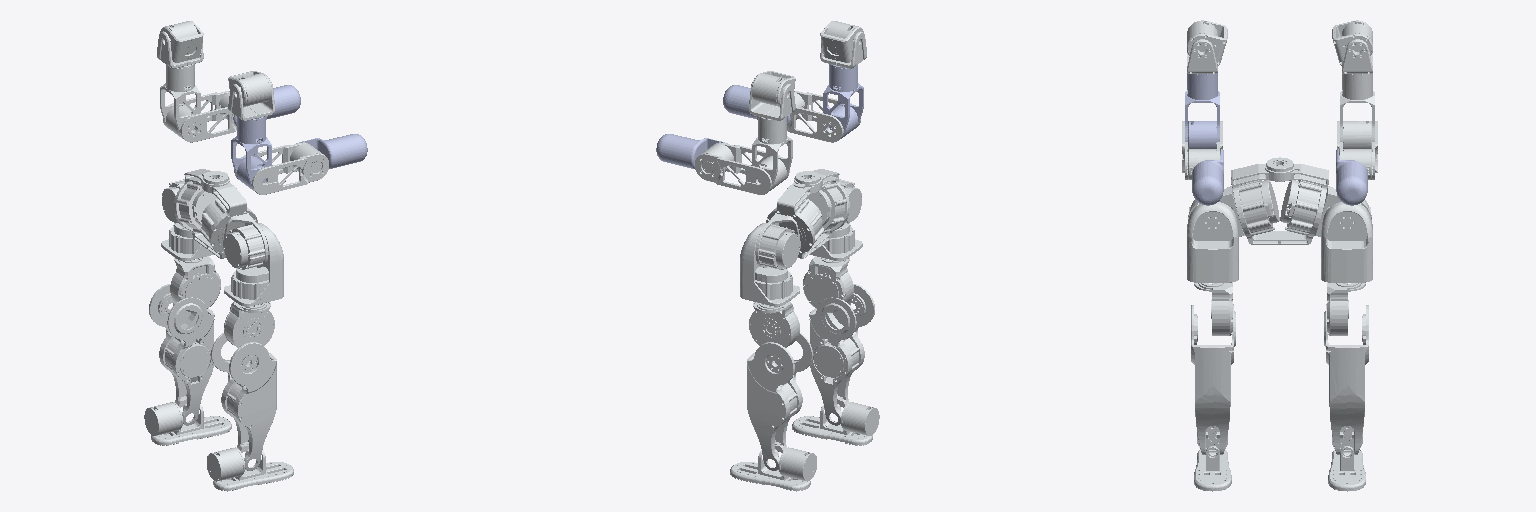
--- Facts derived from the render (not from the file) ---
3 views of the same robot in one strip: view 1: azimuth 30°, elevation 25°; view 2: azimuth 150°, elevation 25°; view 3: azimuth 270°, elevation 25° (orthographic).
Robot: y1_1 — 24 links, 23 joints (6 revolute, 17 fixed); root link waist_link; default pose: every joint at zero.
Visible links, largest first — view 1: left_knee_link, right_knee_link, waist_link, right_hip_roll_link, right_elbow_link, left_ankle_roll_link, right_ankle_roll_link, right_hip_pitch_link, left_hip_yaw_link, left_shoulder_yaw_link, right_shoulder_yaw_link, right_hip_yaw_link (+8 smaller); view 2: right_knee_link, left_knee_link, waist_link, left_hip_roll_link, left_elbow_link, right_ankle_roll_link, left_ankle_roll_link, left_hip_pitch_link, right_hip_yaw_link, right_shoulder_yaw_link, left_shoulder_yaw_link, left_hip_yaw_link (+8 smaller); view 3: waist_link, left_hip_roll_link, right_hip_roll_link, left_knee_link, right_knee_link, left_shoulder_yaw_link, right_shoulder_yaw_link, left_ankle_roll_link, right_ankle_roll_link, left_wrist_pitch_link, right_wrist_pitch_link, left_hip_yaw_link (+7 smaller).
Link boxes in pixels (x1,y1,x2,y2): left_knee_link: [149, 284, 214, 425]; right_knee_link: [211, 333, 276, 470]; waist_link: [174, 169, 257, 258]; right_hip_roll_link: [224, 223, 283, 306]; right_elbow_link: [234, 142, 328, 194]; left_ankle_roll_link: [144, 402, 231, 445]; right_ankle_roll_link: [207, 447, 293, 491]; right_hip_pitch_link: [223, 213, 268, 269]; left_hip_yaw_link: [170, 256, 220, 312]; left_shoulder_yaw_link: [160, 64, 200, 138]; right_shoulder_yaw_link: [231, 116, 272, 190]; right_hip_yaw_link: [224, 301, 274, 347]; right_knee_link: [809, 284, 874, 425]; left_knee_link: [747, 333, 812, 470]; waist_link: [766, 169, 849, 258]; left_hip_roll_link: [740, 223, 799, 306]; left_elbow_link: [695, 142, 789, 194]; right_ankle_roll_link: [792, 402, 879, 445]; left_ankle_roll_link: [730, 447, 816, 491]; left_hip_pitch_link: [755, 213, 800, 269]; right_hip_yaw_link: [803, 256, 853, 312]; right_shoulder_yaw_link: [823, 64, 863, 138]; left_shoulder_yaw_link: [751, 116, 792, 190]; left_hip_yaw_link: [749, 301, 799, 347]; waist_link: [1231, 157, 1328, 244]; left_hip_roll_link: [1321, 202, 1372, 282]; right_hip_roll_link: [1187, 202, 1238, 282]; left_knee_link: [1324, 304, 1368, 454]; right_knee_link: [1191, 304, 1235, 454]; left_shoulder_yaw_link: [1340, 73, 1374, 148]; right_shoulder_yaw_link: [1185, 73, 1219, 148]; left_ankle_roll_link: [1328, 426, 1365, 491]; right_ankle_roll_link: [1194, 426, 1231, 491]; left_wrist_pitch_link: [1336, 149, 1367, 205]; right_wrist_pitch_link: [1192, 149, 1223, 205]; left_hip_yaw_link: [1327, 282, 1365, 335].
Bounding box of the posed robot: 0.3356 × 0.3561 × 0.8821 m (x, y, z).
Meshes: 24 distinct files referenced, 21 mesh visuals loaded (21 binary STL); not drawn: 3 (reference not matched to a file when rendering).

robot.urdf — y1_1:
<?xml version="1.0" encoding="utf-8"?>
<!-- This URDF was automatically created by SolidWorks to URDF Exporter! Originally created by Stephen Brawner ([email redacted]) 
     Commit Version: 1.6.0-4-g7f85cfe  Build Version: 1.6.7995.38578
     For more information, please see http://wiki.ros.org/sw_urdf_exporter -->
<robot
  name="y1_1">
  <!-- [CAUTION] uncomment when convert to mujoco -->
  <!-- <link name="world"></link>
  <joint name="floating_base_joint" type="floating">
    <parent link="world"/>
    <child link="waist_link"/>
  </joint> -->
  <link
    name="waist_link">
    <inertial>
      <origin
        xyz="-3.1586E-06 1.8034E-05 0.064051"
        rpy="0 0 0" />
      <mass
        value="2.5841" />
      <inertia
        ixx="0.0048438"
        ixy="5.6006E-07"
        ixz="1.0459E-07"
        iyy="0.0040006"
        iyz="-2.8139E-06"
        izz="0.0035701" />
    </inertial>
    <visual>
      <origin
        xyz="0 0 0"
        rpy="0 0 0" />
      <geometry>
        <mesh
          filename="package://y1_1_description/meshes/waist_link.STL" />
      </geometry>
      <material
        name="">
        <color
          rgba="0.89804 0.91765 0.92941 1" />
      </material>
    </visual>
    <collision>
    <origin
        xyz="0.0 0.0 0.06"
        rpy="0 0 0" />
      <geometry>
         <sphere radius="0.05"/>
      </geometry>
      <!-- <origin
        xyz="0 0 0"
        rpy="0 0 0" />
      <geometry>
        <mesh
          filename="package://y1_1_description/meshes/waist_link.STL" />
      </geometry> -->
    </collision>
  </link>
  <link
    name="base_link">
    <inertial>
      <origin
        xyz="6.56487063583277E-05 -5.29883143021459E-05 0.175418408757432"
        rpy="0 0 0" />
      <mass
        value="3.23282079938545" />
      <inertia
        ixx="0.0148958930151508"
        ixy="-3.71742538422919E-08"
        ixz="-1.572086772411E-05"
        iyy="0.00995082654269899"
        iyz="-3.22003386785444E-07"
        izz="0.00758513841063971" />
    </inertial>
    <visual>
      <origin
        xyz="0 0 0"
        rpy="0 0 0" />
      <geometry>
        <mesh
          filename="package://y1_1_description/meshes/base_link.STL" />
      </geometry>
      <material
        name="">
        <color
          rgba="0.796078431372549 0.823529411764706 0.937254901960784 1" />
      </material>
    </visual>
    <collision>
      <origin
        xyz="0 0 0"
        rpy="0 0 0" />
      <geometry>
        <mesh
          filename="package://y1_1_description/meshes/base_link.STL" />
      </geometry>
    </collision>
  </link>
  <joint
    name="waist_yaw_joint"
    type="fixed">
    <origin
      xyz="0 0 0.1375"
      rpy="0 0 0" />
    <parent
      link="waist_link" />
    <child
      link="base_link" />
    <axis
      xyz="0 0 1" />
    <limit
      lower="-2.531"
      upper="2.531"
      effort="36"
      velocity="10" />
    <dynamics
      damping="0"
      friction="0" />
  </joint>
  <link
    name="left_shoulder_pitch_link">
    <inertial>
      <origin
        xyz="0.0014501 0.037494 -3.3436E-05"
        rpy="0 0 0" />
      <mass
        value="0.42846" />
      <inertia
        ixx="0.00020767"
        ixy="8.834E-07"
        ixz="8.3313E-08"
        iyy="0.00015805"
        iyz="6.5571E-07"
        izz="0.00016957" />
    </inertial>
    <visual>
      <origin
        xyz="0 0 0"
        rpy="0 0 0" />
      <geometry>
        <mesh
          filename="package://y1_1_description/meshes/left_shoulder_pitch_link.STL" />
      </geometry>
      <material
        name="">
        <color
          rgba="0.89804 0.91765 0.92941 1" />
      </material>
    </visual>
    <collision>
      <origin
        xyz="0 0 0"
        rpy="0 0 0" />
      <geometry>
        <mesh
          filename="package://y1_1_description/meshes/left_shoulder_pitch_link.STL" />
      </geometry>
    </collision>
  </link>
  <joint
    name="left_shoulder_pitch_joint"
    type="fixed">
    <origin
      xyz="0 0.099475 0.23878"
      rpy="0.2618 0 0" />
    <parent
      link="base_link" />
    <child
      link="left_shoulder_pitch_link" />
    <axis
      xyz="0 1 0" />
    <limit
      lower="-2.793"
      upper="2.967"
      effort="14"
      velocity="27" />
    <dynamics
      damping="0"
      friction="0" />
  </joint>
  <link
    name="left_shoulder_roll_link">
    <inertial>
      <origin
        xyz="0.00147828435491028 3.1433042280149E-08 -0.0280280483593641"
        rpy="0 0 0" />
      <mass
        value="0.144870902366699" />
      <inertia
        ixx="9.4453302561668E-05"
        ixy="1.55808711007369E-11"
        ixz="1.25865692791907E-06"
        iyy="7.28853579384453E-05"
        iyz="6.59859100865354E-11"
        izz="4.77731803342356E-05" />
    </inertial>
    <visual>
      <origin
        xyz="0 0 0"
        rpy="0 0 0" />
      <geometry>
        <mesh
          filename="package://y1_1_description/meshes/left_shoulder_roll_link.STL" />
      </geometry>
      <material
        name="">
        <color
          rgba="0.898039215686275 0.917647058823529 0.929411764705882 1" />
      </material>
    </visual>
    <collision>
      <origin
        xyz="0 0 0"
        rpy="0 0 0" />
      <geometry>
        <mesh
          filename="package://y1_1_description/meshes/left_shoulder_roll_link.STL" />
      </geometry>
    </collision>
  </link>
  <joint
    name="left_shoulder_roll_joint"
    type="fixed">
    <origin
      xyz="0 0.0425 0"
      rpy="-0.2618 0 0" />
    <parent
      link="left_shoulder_pitch_link" />
    <child
      link="left_shoulder_roll_link" />
    <axis
      xyz="1 0 0" />
    <limit
      lower="-0.175"
      upper="2.269"
      effort="14"
      velocity="27" />
    <dynamics
      damping="0"
      friction="0" />
  </joint>
  <link
    name="left_shoulder_yaw_link">
    <inertial>
      <origin
        xyz="0.00448125989545401 -0.000611852161467807 -0.0795898043184994"
        rpy="0 0 0" />
      <mass
        value="0.782200484886942" />
      <inertia
        ixx="0.000510469110611853"
        ixy="-2.52457714910517E-06"
        ixz="1.95530262326416E-05"
        iyy="0.000478219785836431"
        iyz="1.47545704469902E-05"
        izz="0.000394120633611971" />
    </inertial>
    <visual>
      <origin
        xyz="0 0 0"
        rpy="0 0 0" />
      <geometry>
        <mesh
          filename="package://y1_1_description/meshes/left_shoulder_yaw_link.STL" />
      </geometry>
      <material
        name="">
        <color
          rgba="0.898039215686275 0.917647058823529 0.929411764705882 1" />
      </material>
    </visual>
    <collision>
      <origin
        xyz="0 0 0"
        rpy="0 0 0" />
      <geometry>
        <mesh
          filename="package://y1_1_description/meshes/left_shoulder_yaw_link.STL" />
      </geometry>
    </collision>
  </link>
  <joint
    name="left_shoulder_yaw_joint"
    type="fixed">
    <origin
      xyz="0 0 -0.0535"
      rpy="0 0 0" />
    <parent
      link="left_shoulder_roll_link" />
    <child
      link="left_shoulder_yaw_link" />
    <axis
      xyz="0 0 1" />
    <limit
      lower="-2.618"
      upper="2.618"
      effort="14"
      velocity="27" />
    <dynamics
      damping="0"
      friction="0" />
  </joint>
  <link
    name="left_elbow_link">
    <inertial>
      <origin
        xyz="0.0931426735984881 -0.0019012892923507 -5.53297350775611E-06"
        rpy="0 0 0" />
      <mass
        value="0.52894696832523" />
      <inertia
        ixx="0.000187156048200952"
        ixy="2.57323704760948E-06"
        ixz="-1.51658245144538E-06"
        iyy="0.000736108020687782"
        iyz="2.90336436457666E-09"
        izz="0.000659746458568266" />
    </inertial>
    <visual>
      <origin
        xyz="0 0 0"
        rpy="0 0 0" />
      <geometry>
        <mesh
          filename="package://y1_1_description/meshes/left_elbow_link.STL" />
      </geometry>
      <material
        name="">
        <color
          rgba="0.898039215686275 0.917647058823529 0.929411764705882 1" />
      </material>
    </visual>
    <collision>
      <origin
        xyz="0 0 0"
        rpy="0 0 0" />
      <geometry>
        <mesh
          filename="package://y1_1_description/meshes/left_elbow_link.STL" />
      </geometry>
    </collision>
  </link>
  <joint
    name="left_elbow_joint"
    type="fixed">
    <origin
      xyz="0.01 0 -0.132"
      rpy="0 0 0" />
    <parent
      link="left_shoulder_yaw_link" />
    <child
      link="left_elbow_link" />
    <axis
      xyz="0 1 0" />
    <limit
      lower="-1.047"
      upper="2.531"
      effort="14"
      velocity="27" />
    <dynamics
      damping="0"
      friction="0" />
  </joint>
  <link
    name="left_wrist_pitch_link">
    <inertial>
      <origin
        xyz="0.0740963738948672 -0.0126020134629869 -1.05580078013645E-09"
        rpy="0 0 0" />
      <mass
        value="0.286000043256093" />
      <inertia
        ixx="0.000124675696022102"
        ixy="-5.2275226947267E-05"
        ixz="3.09861315773967E-13"
        iyy="0.000382541212740339"
        iyz="-1.85991790522179E-11"
        izz="0.000393370729585367" />
    </inertial>
    <visual>
      <origin
        xyz="0 0 0"
        rpy="0 0 0" />
      <geometry>
        <mesh
          filename="package://y1_1_description/meshes/left_wrist_pitch_link.STL" />
      </geometry>
      <material
        name="">
        <color
          rgba="0.796078431372549 0.823529411764706 0.937254901960784 1" />
      </material>
    </visual>
    <collision>
      <origin
        xyz="0 0 0"
        rpy="0 0 0" />
      <geometry>
        <mesh
          filename="package://y1_1_description/meshes/left_wrist_pitch_link.STL" />
      </geometry>
    </collision>
  </link>
  <joint
    name="left_wrist_pitch_joint"
    type="fixed">
    <origin
      xyz="0.12 0 0"
      rpy="0 0 0" />
    <parent
      link="left_elbow_link" />
    <child
      link="left_wrist_pitch_link" />
    <axis
      xyz="0 1 0" />
    <limit
      lower="-1.745"
      upper="1.745"
      effort="14"
      velocity="27" />
    <dynamics
      damping="0"
      friction="0" />
  </joint>
  <link
    name="right_shoulder_pitch_link">
    <inertial>
      <origin
        xyz="0.00145013977142911 -0.0374931990457945 -3.87483040580339E-05"
        rpy="0 0 0" />
      <mass
        value="0.428463740665447" />
      <inertia
        ixx="0.000207666476848762"
        ixy="-8.83223763137363E-07"
        ixz="8.20975772793153E-08"
        iyy="0.000157891450031877"
        iyz="-2.87351585701473E-07"
        izz="0.000169727347595642" />
    </inertial>
    <visual>
      <origin
        xyz="0 0 0"
        rpy="0 0 0" />
      <geometry>
        <mesh
          filename="package://y1_1_description/meshes/right_shoulder_pitch_link.STL" />
      </geometry>
      <material
        name="">
        <color
          rgba="0.898039215686275 0.917647058823529 0.929411764705882 1" />
      </material>
    </visual>
    <collision>
      <origin
        xyz="0 0 0"
        rpy="0 0 0" />
      <geometry>
        <mesh
          filename="package://y1_1_description/meshes/right_shoulder_pitch_link.STL" />
      </geometry>
    </collision>
  </link>
  <joint
    name="right_shoulder_pitch_joint"
    type="fixed">
    <origin
      xyz="0 -0.099475 0.23878"
      rpy="-0.2618 0 0" />
    <parent
      link="base_link" />
    <child
      link="right_shoulder_pitch_link" />
    <axis
      xyz="0 1 0" />
    <limit
      lower="-2.793"
      upper="2.967"
      effort="14"
      velocity="27" />
    <dynamics
      damping="0"
      friction="0" />
  </joint>
  <link
    name="right_shoulder_roll_link">
    <inertial>
      <origin
        xyz="0.00147828435491732 3.14330422523934E-08 -0.0280280483593639"
        rpy="0 0 0" />
      <mass
        value="0.144870902366699" />
      <inertia
        ixx="9.44533025616681E-05"
        ixy="1.55808710271341E-11"
        ixz="1.25865692791968E-06"
        iyy="7.28853579384454E-05"
        iyz="6.59859099179777E-11"
        izz="4.77731803342357E-05" />
    </inertial>
    <visual>
      <origin
        xyz="0 0 0"
        rpy="0 0 0" />
      <geometry>
        <mesh
          filename="package://y1_1_description/meshes/right_shoulder_roll_link.STL" />
      </geometry>
      <material
        name="">
        <color
          rgba="0.898039215686275 0.917647058823529 0.929411764705882 1" />
      </material>
    </visual>
    <collision>
      <origin
        xyz="0 0 0"
        rpy="0 0 0" />
      <geometry>
        <mesh
          filename="package://y1_1_description/meshes/right_shoulder_roll_link.STL" />
      </geometry>
    </collision>
  </link>
  <joint
    name="right_shoulder_roll_joint"
    type="fixed">
    <origin
      xyz="0 -0.0425 0"
      rpy="0.2618 0 0" />
    <parent
      link="right_shoulder_pitch_link" />
    <child
      link="right_shoulder_roll_link" />
    <axis
      xyz="1 0 0" />
    <limit
      lower="-2.269"
      upper="0.175"
      effort="14"
      velocity="27" />
    <dynamics
      damping="0"
      friction="0" />
  </joint>
  <link
    name="right_shoulder_yaw_link">
    <inertial>
      <origin
        xyz="0.00448126918412133 0.00061332156626856 -0.0795882496136856"
        rpy="0 0 0" />
      <mass
        value="0.782202485133934" />
      <inertia
        ixx="0.000510470479435294"
        ixy="2.47850987454687E-06"
        ixz="1.95987762118723E-05"
        iyy="0.000478220740509219"
        iyz="-1.47536548845486E-05"
        izz="0.000394120932458268" />
    </inertial>
    <visual>
      <origin
        xyz="0 0 0"
        rpy="0 0 0" />
      <geometry>
        <mesh
          filename="package://y1_1_description/meshes/right_shoulder_yaw_link.STL" />
      </geometry>
      <material
        name="">
        <color
          rgba="0.792156862745098 0.819607843137255 0.933333333333333 1" />
      </material>
    </visual>
    <collision>
      <origin
        xyz="0 0 0"
        rpy="0 0 0" />
      <geometry>
        <mesh
          filename="package://y1_1_description/meshes/right_shoulder_yaw_link.STL" />
      </geometry>
    </collision>
  </link>
  <joint
    name="right_shoulder_yaw_joint"
    type="fixed">
    <origin
      xyz="0 0 -0.0535"
      rpy="0 0 0" />
    <parent
      link="right_shoulder_roll_link" />
    <child
      link="right_shoulder_yaw_link" />
    <axis
      xyz="0 0 1" />
    <limit
      lower="-2.618"
      upper="2.618"
      effort="14"
      velocity="27" />
    <dynamics
      damping="0"
      friction="0" />
  </joint>
  <link
    name="right_elbow_link">
    <inertial>
      <origin
        xyz="0.093144913082755 0.00190127899509376 -5.54042496230672E-06"
        rpy="0 0 0" />
      <mass
        value="0.528946651454419" />
      <inertia
        ixx="0.000187155902173245"
        ixy="-2.57310617005945E-06"
        ixz="-1.56252093026095E-06"
        iyy="0.000736107334396418"
        iyz="-2.89803908863842E-09"
        izz="0.000659745916340358" />
    </inertial>
    <visual>
      <origin
        xyz="0 0 0"
        rpy="0 0 0" />
      <geometry>
        <mesh
          filename="package://y1_1_description/meshes/right_elbow_link.STL" />
      </geometry>
      <material
        name="">
        <color
          rgba="0.898039215686275 0.917647058823529 0.929411764705882 1" />
      </material>
    </visual>
    <collision>
      <origin
        xyz="0 0 0"
        rpy="0 0 0" />
      <geometry>
        <mesh
          filename="package://y1_1_description/meshes/right_elbow_link.STL" />
      </geometry>
    </collision>
  </link>
  <joint
    name="right_elbow_joint"
    type="fixed">
    <origin
      xyz="0.01 0 -0.132"
      rpy="0 0 0" />
    <parent
      link="right_shoulder_yaw_link" />
    <child
      link="right_elbow_link" />
    <axis
      xyz="0 1 0" />
    <limit
      lower="-1.047"
      upper="2.531"
      effort="14"
      velocity="27" />
    <dynamics
      damping="0"
      friction="0" />
  </joint>
  <link
    name="right_wrist_pitch_link">
    <inertial>
      <origin
        xyz="0.0740963737913498 0.0126020135473506 1.05580435366681E-09"
        rpy="0 0 0" />
      <mass
        value="0.286000043890953" />
      <inertia
        ixx="0.000124675696445967"
        ixy="5.22752277836084E-05"
        ixz="-3.09853995384512E-13"
        iyy="0.000382541214043488"
        iyz="-1.85991927096422E-11"
        izz="0.000393370731162602" />
    </inertial>
    <visual>
      <origin
        xyz="0 0 0"
        rpy="0 0 0" />
      <geometry>
        <mesh
          filename="package://y1_1_description/meshes/right_wrist_pitch_link.STL" />
      </geometry>
      <material
        name="">
        <color
          rgba="0.796078431372549 0.823529411764706 0.937254901960784 1" />
      </material>
    </visual>
    <collision>
      <origin
        xyz="0 0 0"
        rpy="0 0 0" />
      <geometry>
        <mesh
          filename="package://y1_1_description/meshes/right_wrist_pitch_link.STL" />
      </geometry>
    </collision>
  </link>
  <joint
    name="right_wrist_pitch_joint"
    type="fixed">
    <origin
      xyz="0.12 0 0"
      rpy="0 0 0" />
    <parent
      link="right_elbow_link" />
    <child
      link="right_wrist_pitch_link" />
    <axis
      xyz="0 1 0" />
    <limit
      lower="-1.745"
      upper="1.745"
      effort="14"
      velocity="27" />
    <dynamics
      damping="0"
      friction="0" />
  </joint>
  <link
    name="left_hip_pitch_link">
    <inertial>
      <origin
        xyz="-0.0019632 0.045161 -5.0674E-05"
        rpy="0 0 0" />
      <mass
        value="0.80356" />
      <inertia
        ixx="0.00076974"
        ixy="-3.6659E-05"
        ixz="-5.4682E-07"
        iyy="0.00051104"
        iyz="-1.1627E-06"
        izz="0.00053614" />
    </inertial>
    <visual>
      <origin
        xyz="0 0 0"
        rpy="0 0 0" />
      <geometry>
        <mesh
          filename="package://y1_1_description/meshes/left_hip_pitch_link.STL" />
      </geometry>
      <material
        name="">
        <color
          rgba="0.89804 0.91765 0.92941 1" />
      </material>
    </visual>
    <!-- <collision>
      <origin
        xyz="0 0 0"
        rpy="0 0 0" />
      <geometry>
        <mesh
          filename="package://y1_1_description/meshes/left_hip_pitch_link.STL" />
      </geometry>
    </collision> -->
  </link>
  <joint
    name="left_hip_pitch_joint"
    type="revolute">
    <origin
      xyz="0 0.072659 0.052412"
      rpy="-0.2618 0 0" />
    <parent
      link="waist_link" />
    <child
      link="left_hip_pitch_link" />
    <axis
      xyz="0 1 0" />
    <limit
      lower="-2.88"
      upper="2.531"
      effort="60"
      velocity="18" />
  </joint>
  <link
    name="left_hip_roll_link">
    <inertial>
      <origin
        xyz="0.00899188629843321 2.88126070502326E-08 -0.0619119664701918"
        rpy="0 0 0" />
      <mass
        value="1.14369294200887" />
      <inertia
        ixx="0.00189247369658316"
        ixy="2.02387217321815E-08"
        ixz="-6.69014743554038E-05"
        iyy="0.00168055682608297"
        iyz="1.12885427720383E-08"
        izz="0.00124417067080654" />
    </inertial>
    <visual>
      <origin
        xyz="0 0 0"
        rpy="0 0 0" />
      <geometry>
        <mesh
          filename="package://y1_1_description/meshes/left_hip_roll_link.STL" />
      </geometry>
      <material
        name="">
        <color
          rgba="0.898039215686275 0.917647058823529 0.929411764705882 1" />
      </material>
    </visual>
    <collision>
      <origin
        xyz="0 0 0"
        rpy="0 0 0" />
      <geometry>
        <mesh
          filename="package://y1_1_description/meshes/left_hip_roll_link.STL" />
      </geometry>
    </collision>
  </link>
  <joint
    name="left_hip_roll_joint"
    type="revolute">
    <origin
      xyz="0.015 0.0511 0"
      rpy="0.2618 0 0" />
    <parent
      link="left_hip_pitch_link" />
    <child
      link="left_hip_roll_link" />
    <axis
      xyz="1 0 0" />
    <limit
      lower="-0.262"
      upper="2.793"
      effort="36"
      velocity="10" />
    <dynamics
      damping="0"
      friction="0" />
  </joint>
  <link
    name="left_hip_yaw_link">
    <inertial>
      <origin
        xyz="-0.0171493951600475 -0.000592733790209271 -0.0958073202510228"
        rpy="0 0 0" />
      <mass
        value="1.68196474784983" />
      <inertia
        ixx="0.00269224103241642"
        ixy="-2.75040847797259E-06"
        ixz="-0.000206603646125489"
        iyy="0.00371920304490375"
        iyz="0.000100477020490718"
        izz="0.00169582318071477" />
    </inertial>
    <visual>
      <origin
        xyz="0 0 0"
        rpy="0 0 0" />
      <geometry>
        <mesh
          filename="package://y1_1_description/meshes/left_hip_yaw_link.STL" />
      </geometry>
      <material
        name="">
        <color
          rgba="0.898039215686275 0.917647058823529 0.929411764705882 1" />
      </material>
    </visual>
    <collision>
      <origin
        xyz="0 0 0"
        rpy="0 0 0" />
      <geometry>
        <mesh
          filename="package://y1_1_description/meshes/left_hip_yaw_link.STL" />
      </geometry>
    </collision>
  </link>
  <joint
    name="left_hip_yaw_joint"
    type="revolute">
    <origin
      xyz="0 0 -0.105"
      rpy="0 0 0" />
    <parent
      link="left_hip_roll_link" />
    <child
      link="left_hip_yaw_link" />
    <axis
      xyz="0 0 1" />
    <limit
      lower="-2.793"
      upper="2.793"
      effort="36"
      velocity="10" />
    <dynamics
      damping="0"
      friction="0" />
  </joint>
  <link
    name="left_knee_link">
    <inertial>
      <origin
        xyz="0.0216143017982802 -0.000846542482496909 -0.0880746684028961"
        rpy="0 0 0" />
      <mass
        value="1.28623787789441" />
      <inertia
        ixx="0.00368386502217027"
        ixy="9.82739714080785E-07"
        ixz="0.000146821315179311"
        iyy="0.00432631464408649"
        iyz="-9.02460574225806E-06"
        izz="0.000969540368517392" />
    </inertial>
    <visual>
      <origin
        xyz="0 0 0"
        rpy="0 0 0" />
      <geometry>
        <mesh
          filename="package://y1_1_description/meshes/left_knee_link.STL" />
      </geometry>
      <material
        name="">
        <color
          rgba="0.898039215686275 0.917647058823529 0.929411764705882 1" />
      </material>
    </visual>
    <collision>
      <origin
        xyz="0 0 0"
        rpy="0 0 0" />
      <geometry>
        <mesh
          filename="package://y1_1_description/meshes/left_knee_link.STL" />
      </geometry>
    </collision>
  </link>
  <joint
    name="left_knee_joint"
    type="revolute">
    <origin
      xyz="-0.03 0 -0.1295"
      rpy="0 0 0" />
    <parent
      link="left_hip_yaw_link" />
    <child
      link="left_knee_link" />
    <axis
      xyz="0 1 0" />
    <limit
      lower="-0.087"
      upper="2.793"
      effort="60"
      velocity="18" />
    <dynamics
      damping="0"
      friction="0" />
  </joint>
  <link
    name="left_ankle_pitch_link">
    <inertial>
      <origin
        xyz="0.00093706 -3.9074E-06 -0.00033742"
        rpy="0 0 0" />
      <mass
        value="0.061258" />
      <inertia
        ixx="7.4924E-06"
        ixy="3.5333E-12"
        ixz="-3.4124E-07"
        iyy="1.6962E-05"
        iyz="3.2927E-12"
        izz="1.8556E-05" />
    </inertial>
    <visual>
      <origin
        xyz="0 0 0"
        rpy="0 0 0" />
      <geometry>
        <mesh
          filename="package://y1_1_description/meshes/left_ankle_pitch_link.STL" />
      </geometry>
      <material
        name="">
        <color
          rgba="0.89804 0.91765 0.92941 1" />
      </material>
    </visual>
    <!-- <collision>
      <origin
        xyz="0 0 0"
        rpy="0 0 0" />
      <geometry>
        <mesh
          filename="package://y1_1_description/meshes/left_ankle_pitch_link.STL" />
      </geometry>
    </collision> -->
  </link>
  <joint
    name="left_ankle_pitch_joint"
    type="revolute">
    <origin
      xyz="0.015 0 -0.225"
      rpy="0 0 0" />
    <parent
      link="left_knee_link" />
    <child
      link="left_ankle_pitch_link" />
    <axis
      xyz="0 1 0" />
    <limit
      lower="-0.873"
      upper="0.346"
      effort="36"
      velocity="10" />
    <dynamics
      damping="0"
      friction="0" />
  </joint>
  <link
    name="left_ankle_roll_link">
    <inertial>
      <origin
        xyz="-0.0221209771035069 -5.42568729218484E-06 -0.0143158952651421"
        rpy="0 0 0" />
      <mass
        value="0.534158856132278" />
      <inertia
        ixx="0.000201892396619271"
        ixy="-3.74193586131749E-09"
        ixz="6.26133146926386E-06"
        iyy="0.000520987247862242"
        iyz="-2.31036227071568E-08"
        izz="0.000562696177317639" />
    </inertial>
    <visual>
      <origin
        xyz="0 0 0"
        rpy="0 0 0" />
      <geometry>
        <mesh
          filename="package://y1_1_description/meshes/left_ankle_roll_visual_link.STL" />
      </geometry>
      <material
        name="">
        <color
          rgba="0.898039215686275 0.917647058823529 0.929411764705882 1" />
      </material>
    </visual>
    <collision>
      <origin
        xyz="0.05 -0.029 -0.0411"
        rpy="0 1.5708 0" />
      <geometry>
        <cylinder
          radius="0.005"
          length="0.05" />
      </geometry>
    </collision>
    <collision>
      <origin
        xyz="0.016 -0.021 -0.0411"
        rpy="0 -1.5708 0" />
      <geometry>
        <cylinder
          radius="0.005"
          length="0.153" />
      </geometry>
    </collision>
    <collision>
      <origin
        xyz="0.016 -0.01 -0.0411"
        rpy="0 -1.5708 0" />
      <geometry>
        <cylinder
          radius="0.005"
          length="0.168" />
      </geometry>
    </collision>
    <collision>
      <origin
        xyz="0.0166 0 -0.0411"
        rpy="0 -1.5708 0" />
      <geometry>
        <cylinder
          radius="0.005"
          length="0.171" />
      </geometry>
    </collision>
    <collision>
      <origin
        xyz="0.016 0.01 -0.0411"
        rpy="0 -1.5708 0" />
      <geometry>
        <cylinder
          radius="0.005"
          length="0.168" />
      </geometry>
    </collision>
    <collision>
      <origin
        xyz="0.016 0.021 -0.0411"
        rpy="0 -1.5708 0" />
      <geometry>
        <cylinder
          radius="0.005"
          length="0.153" />
      </geometry>
    </collision>
    <collision>
      <origin
        xyz="0.05 0.029 -0.0411"
        rpy="0 1.5708 0" />
      <geometry>
        <cylinder
          radius="0.005"
          length="0.05" />
      </geometry>
    </collision>
  </link>
  <joint
    name="left_ankle_roll_joint"
    type="revolute">
    <origin
      xyz="0 0 0"
      rpy="0 0 0" />
    <parent
      link="left_ankle_pitch_link" />
    <child
      link="left_ankle_roll_link" />
    <axis
      xyz="1 0 0" />
    <limit
      lower="-0.346"
      upper="0.346"
      effort="14"
      velocity="27" />
    <dynamics
      damping="0"
      friction="0" />
  </joint>
  <link
    name="right_hip_pitch_link">
    <inertial>
      <origin
        xyz="-0.0019632 -0.045161 -5.0653E-05"
        rpy="0 0 0" />
      <mass
        value="0.80356" />
      <inertia
        ixx="0.00076974"
        ixy="3.6658E-05"
        ixz="-5.4664E-07"
        iyy="0.00051104"
        iyz="1.1589E-06"
        izz="0.00053614" />
    </inertial>
    <visual>
      <origin
        xyz="0 0 0"
        rpy="0 0 0" />
      <geometry>
        <mesh
          filename="package://y1_1_description/meshes/right_hip_pitch_link.STL" />
      </geometry>
      <material
        name="">
        <color
          rgba="0.89804 0.91765 0.92941 1" />
      </material>
    </visual>
    <!-- <collision>
      <origin
        xyz="0 0 0"
        rpy="0 0 0" />
      <geometry>
        <mesh
          filename="package://y1_1_description/meshes/right_hip_pitch_link.STL" />
      </geometry>
    </collision> -->
  </link>
  <joint
    name="right_hip_pitch_joint"
    type="fixed">
    <origin
      xyz="0 -0.072659 0.052412"
      rpy="0.2618 0 0" />
    <parent
      link="waist_link" />
    <child
      link="right_hip_pitch_link" />
    <axis
      xyz="0 1 0" />
    <limit
      lower="-2.88"
      upper="2.531"
      effort="60"
      velocity="18" />
    <dynamics
      damping="0"
      friction="0" />
  </joint>
  <link
    name="right_hip_roll_link">
    <inertial>
      <origin
        xyz="0.00899188608490742 2.95020730484152E-08 -0.061911966577306"
        rpy="0 0 0" />
      <mass
        value="1.14369297016856" />
      <inertia
        ixx="0.00189247370390705"
        ixy="2.02385900352958E-08"
        ixz="-6.69014745357654E-05"
        iyy="0.00168055685265199"
        iyz="1.12801577988309E-08"
        izz="0.00124417069862393" />
    </inertial>
    <visual>
      <origin
        xyz="0 0 0"
        rpy="0 0 0" />
      <geometry>
        <mesh
          filename="package://y1_1_description/meshes/right_hip_roll_link.STL" />
      </geometry>
      <material
        name="">
        <color
          rgba="0.898039215686275 0.917647058823529 0.929411764705882 1" />
      </material>
    </visual>
    <collision>
      <origin
        xyz="0 0 0"
        rpy="0 0 0" />
      <geometry>
        <mesh
          filename="package://y1_1_description/meshes/right_hip_roll_link.STL" />
      </geometry>
    </collision>
  </link>
  <joint
    name="right_hip_roll_joint"
    type="fixed">
    <origin
      xyz="0.015 -0.0511 0"
      rpy="-0.2618 0 0" />
    <parent
      link="right_hip_pitch_link" />
    <child
      link="right_hip_roll_link" />
    <axis
      xyz="1 0 0" />
    <limit
      lower="-2.793"
      upper="0.262"
      effort="36"
      velocity="10" />
    <dynamics
      damping="0"
      friction="0" />
  </joint>
  <link
    name="right_hip_yaw_link">
    <inertial>
      <origin
        xyz="-0.0171493951600475 0.000592733790209271 -0.0958073202510228"
        rpy="0 0 0" />
      <mass
        value="1.68196474784983" />
      <inertia
        ixx="0.00269224103241642"
        ixy="2.75040847797259E-06"
        ixz="-0.000206603646125489"
        iyy="0.00371920304490375"
        iyz="-0.000100477020490718"
        izz="0.00169582318071477" />
    </inertial>
    <visual>
      <origin
        xyz="0 0 0"
        rpy="0 0 0" />
      <geometry>
        <mesh
          filename="package://y1_1_description/meshes/right_hip_yaw_link.STL" />
      </geometry>
      <material
        name="">
        <color
          rgba="0.898039215686275 0.917647058823529 0.929411764705882 1" />
      </material>
    </visual>
    <collision>
      <origin
        xyz="0 0 0"
        rpy="0 0 0" />
      <geometry>
        <mesh
          filename="package://y1_1_description/meshes/right_hip_yaw_link.STL" />
      </geometry>
    </collision>
  </link>
  <joint
    name="right_hip_yaw_joint"
    type="fixed">
    <origin
      xyz="0 0 -0.105"
      rpy="0 0 0" />
    <parent
      link="right_hip_roll_link" />
    <child
      link="right_hip_yaw_link" />
    <axis
      xyz="0 0 1" />
    <limit
      lower="-2.793"
      upper="2.793"
      effort="36"
      velocity="10" />
    <dynamics
      damping="0"
      friction="0" />
  </joint>
  <link
    name="right_knee_link">
    <inertial>
      <origin
        xyz="0.0216141768372944 0.000846093080593566 -0.0880739452309227"
        rpy="0 0 0" />
      <mass
        value="1.2862334931059" />
      <inertia
        ixx="0.0036837449064786"
        ixy="-9.81862614625349E-07"
        ixz="0.000146790592929358"
        iyy="0.00432619902008466"
        iyz="9.04972572931298E-06"
        izz="0.000969542487890839" />
    </inertial>
    <visual>
      <origin
        xyz="0 0 0"
        rpy="0 0 0" />
      <geometry>
        <mesh
          filename="package://y1_1_description/meshes/right_knee_link.STL" />
      </geometry>
      <material
        name="">
        <color
          rgba="0.898039215686275 0.917647058823529 0.929411764705882 1" />
      </material>
    </visual>
    <collision>
      <origin
        xyz="0 0 0"
        rpy="0 0 0" />
      <geometry>
        <mesh
          filename="package://y1_1_description/meshes/right_knee_link.STL" />
      </geometry>
    </collision>
  </link>
  <joint
    name="right_knee_joint"
    type="fixed">
    <origin
      xyz="-0.03 0 -0.1295"
      rpy="0 0 0" />
    <parent
      link="right_hip_yaw_link" />
    <child
      link="right_knee_link" />
    <axis
      xyz="0 1 0" />
    <limit
      lower="-0.087"
      upper="2.793"
      effort="60"
      velocity="18" />
    <dynamics
      damping="0"
      friction="0" />
  </joint>
  <link
    name="right_ankle_pitch_link">
    <inertial>
      <origin
        xyz="0.00093706 -3.9087E-06 -0.00033742"
        rpy="0 0 0" />
      <mass
        value="0.061258" />
      <inertia
        ixx="7.4924E-06"
        ixy="3.5333E-12"
        ixz="-3.4124E-07"
        iyy="1.6962E-05"
        iyz="3.2927E-12"
        izz="1.8556E-05" />
    </inertial>
    <visual>
      <origin
        xyz="0 0 0"
        rpy="0 0 0" />
      <geometry>
        <mesh
          filename="package://y1_1_description/meshes/right_ankle_pitch_link.STL" />
      </geometry>
      <material
        name="">
        <color
          rgba="0.77647 0.75686 0.73725 1" />
      </material>
    </visual>
    <!-- <collision>
      <origin
        xyz="0 0 0"
        rpy="0 0 0" />
      <geometry>
        <mesh
          filename="package://y1_1_description/meshes/right_ankle_pitch_link.STL" />
      </geometry>
    </collision> -->
  </link>
  <joint
    name="right_ankle_pitch_joint"
    type="fixed">
    <origin
      xyz="0.015 0 -0.225"
      rpy="0 0 0" />
    <parent
      link="right_knee_link" />
    <child
      link="right_ankle_pitch_link" />
    <axis
      xyz="0 1 0" />
    <limit
      lower="-0.873"
      upper="0.346"
      effort="36"
      velocity="10" />
    <dynamics
      damping="0"
      friction="0" />
  </joint>
  <link
    name="right_ankle_roll_link">
    <inertial>
      <origin
        xyz="-0.0221209771035067 5.42568729253179E-06 -0.0143158952651418"
        rpy="0 0 0" />
      <mass
        value="0.534158856132273" />
      <inertia
        ixx="0.000201892396619269"
        ixy="-3.74193586310293E-09"
        ixz="6.26133146926938E-06"
        iyy="0.000520987247862237"
        iyz="-2.3103622706572E-08"
        izz="0.000562696177317634" />
    </inertial>
    <visual>
      <origin
        xyz="0 0 0"
        rpy="0 0 0" />
      <geometry>
        <mesh
          filename="package://y1_1_description/meshes/right_ankle_roll_visual_link.STL" />
      </geometry>
      <material
        name="">
        <color
          rgba="0.898039215686275 0.917647058823529 0.929411764705882 1" />
      </material>
    </visual>
    <collision>
      <origin
        xyz="0.05 -0.029 -0.0411"
        rpy="0 1.5708 0" />
      <geometry>
        <cylinder
          radius="0.005"
          length="0.05" />
      </geometry>
    </collision>
    <collision>
      <origin
        xyz="0.016 -0.021 -0.0411"
        rpy="0 -1.5708 0" />
      <geometry>
        <cylinder
          radius="0.005"
          length="0.153" />
      </geometry>
    </collision>
    <collision>
      <origin
        xyz="0.016 -0.01 -0.0411"
        rpy="0 -1.5708 0" />
      <geometry>
        <cylinder
          radius="0.005"
          length="0.168" />
      </geometry>
    </collision>
    <collision>
      <origin
        xyz="0.0166 0 -0.0411"
        rpy="0 -1.5708 0" />
      <geometry>
        <cylinder
          radius="0.005"
          length="0.171" />
      </geometry>
    </collision>
    <collision>
      <origin
        xyz="0.016 0.01 -0.0411"
        rpy="0 -1.5708 0" />
      <geometry>
        <cylinder
          radius="0.005"
          length="0.168" />
      </geometry>
    </collision>
    <collision>
      <origin
        xyz="0.016 0.021 -0.0411"
        rpy="0 -1.5708 0" />
      <geometry>
        <cylinder
          radius="0.005"
          length="0.153" />
      </geometry>
    </collision>
    <collision>
      <origin
        xyz="0.05 0.029 -0.0411"
        rpy="0 1.5708 0" />
      <geometry>
        <cylinder
          radius="0.005"
          length="0.05" />
      </geometry>
    </collision>
  </link>
  <joint
    name="right_ankle_roll_joint"
    type="fixed">
    <origin
      xyz="0 0 0"
      rpy="0 0 0" />
    <parent
      link="right_ankle_pitch_link" />
    <child
      link="right_ankle_roll_link" />
    <axis
      xyz="1 0 0" />
    <limit
      lower="-0.346"
      upper="0.346"
      effort="14"
      velocity="27" />
    <dynamics
      damping="0"
      friction="0" />
  </joint>
</robot>
